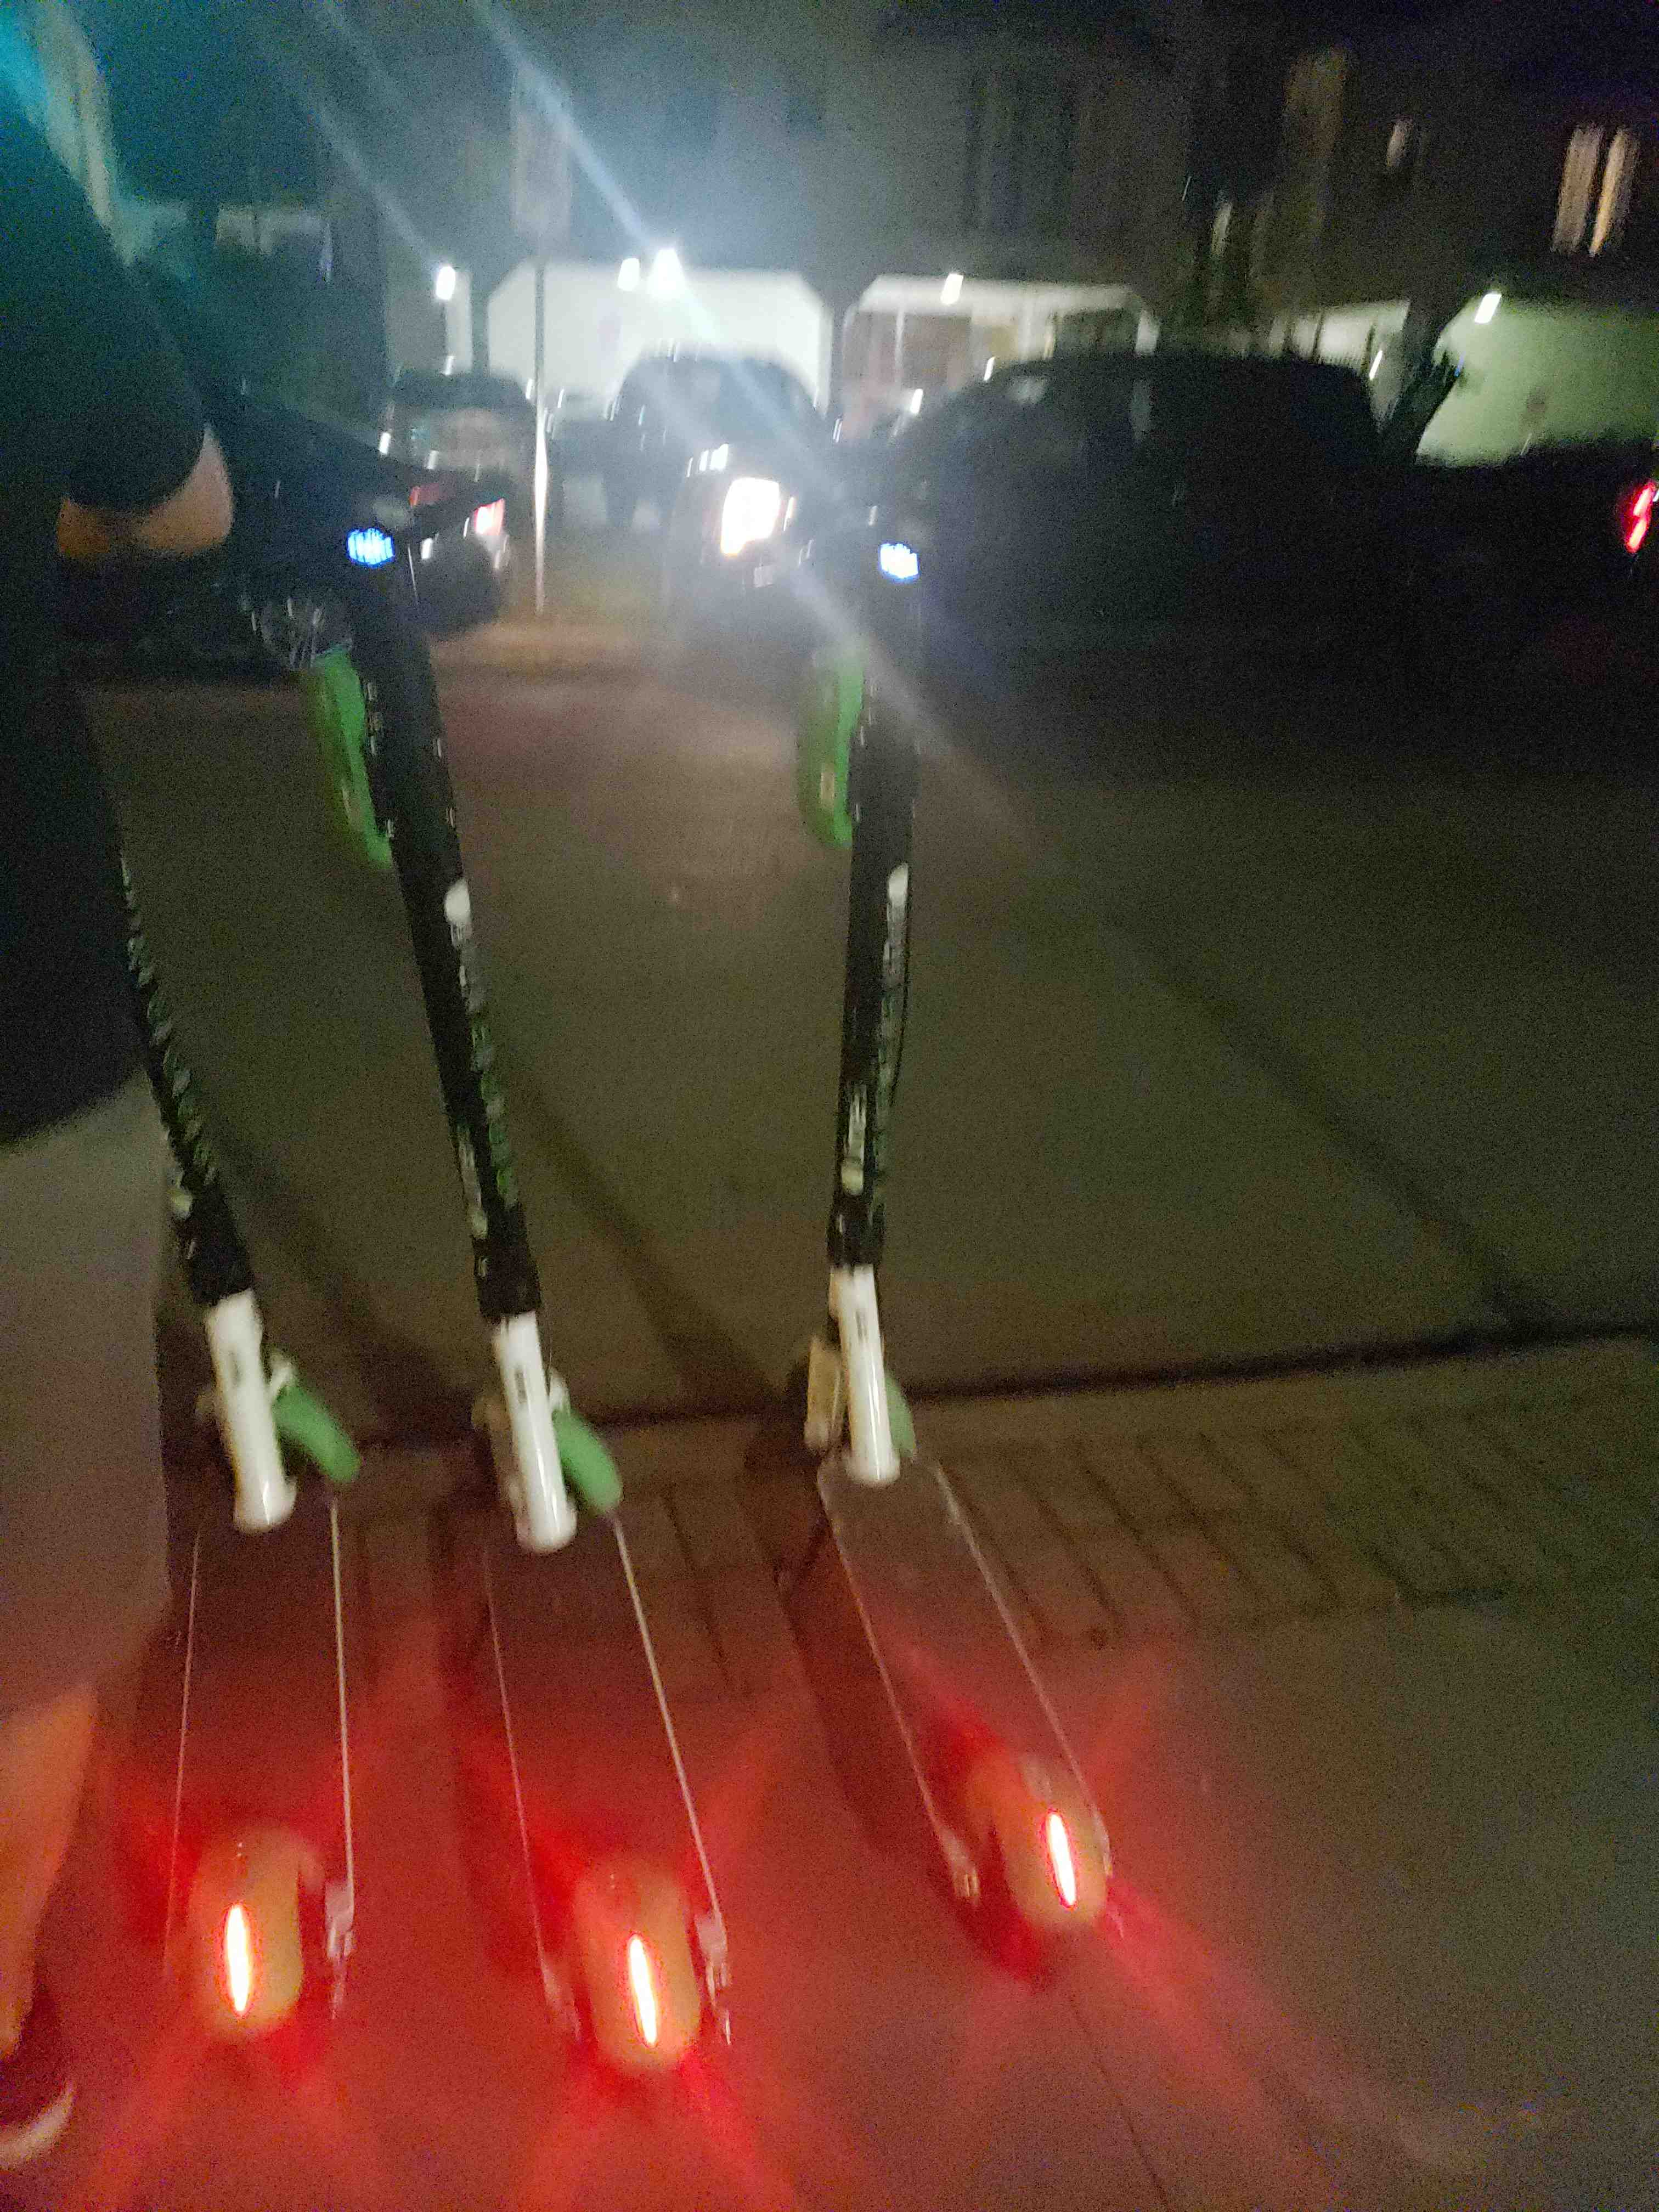too close: (699, 1280, 1007, 1522), (392, 1339, 669, 1575)
